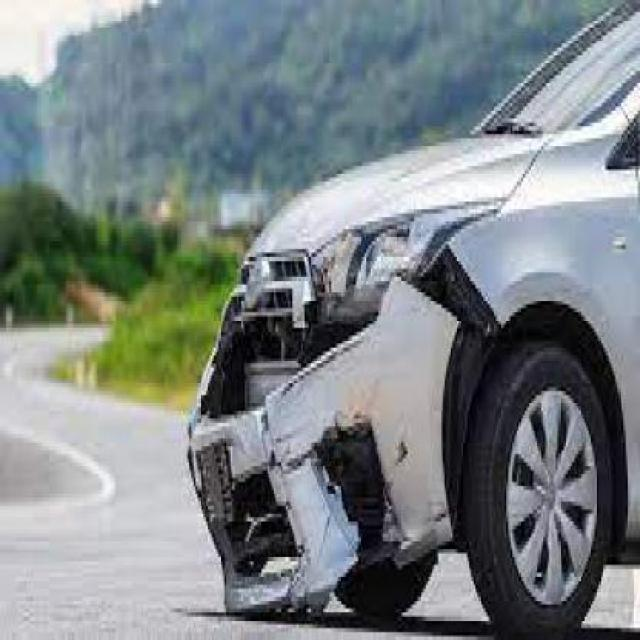damaged-front-bumper: (182, 293, 484, 607)
